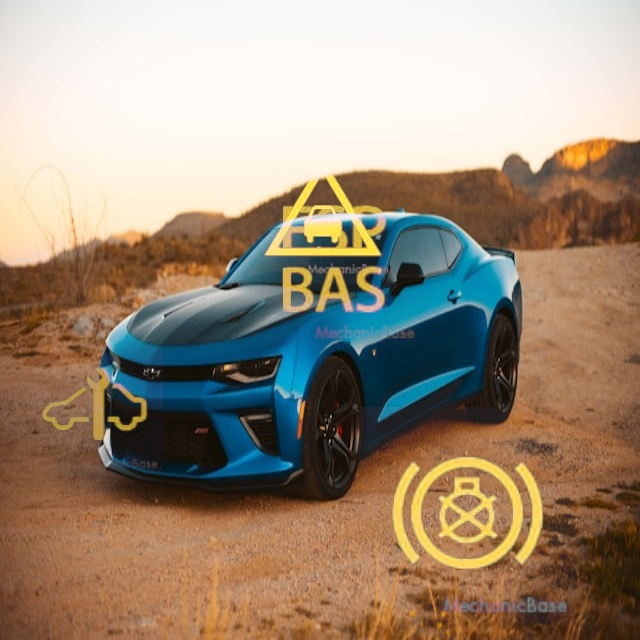symbol: (359, 407, 575, 623), (248, 174, 421, 347), (251, 138, 394, 281), (24, 336, 163, 475)
